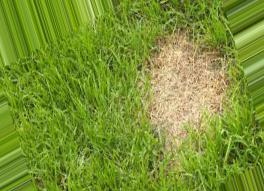patch: (164, 51, 211, 118), (154, 75, 185, 136)
